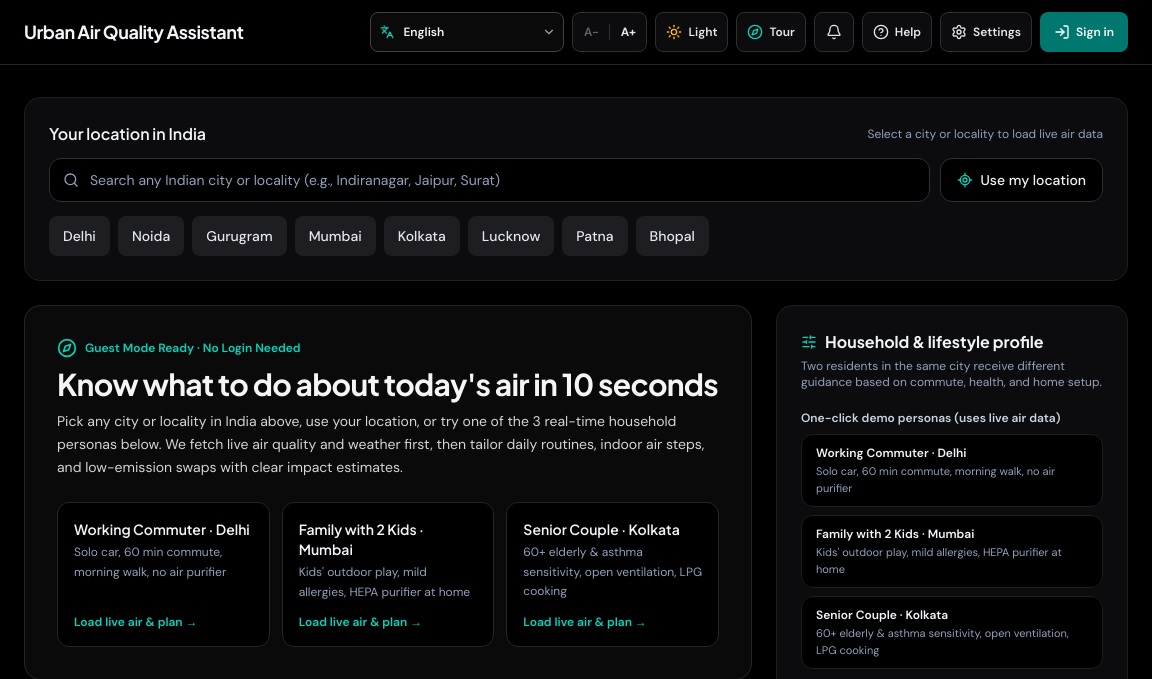
Test: Top toolbar controls (Regional Languages, Black Default Theme, Font Size, Coachmark Tour) & Separate Login Page › switches between English, Hindi, Marathi, and Punjabi directly from the top bar
Expected: the button "Urban Air Quality Assistant" is shown, [24,18,243,46]
// Switch to Marathi
Step 1. Select "मराठी (Marathi)" in the dropdown named "Select language" → (467, 32), box [370,12,564,52]
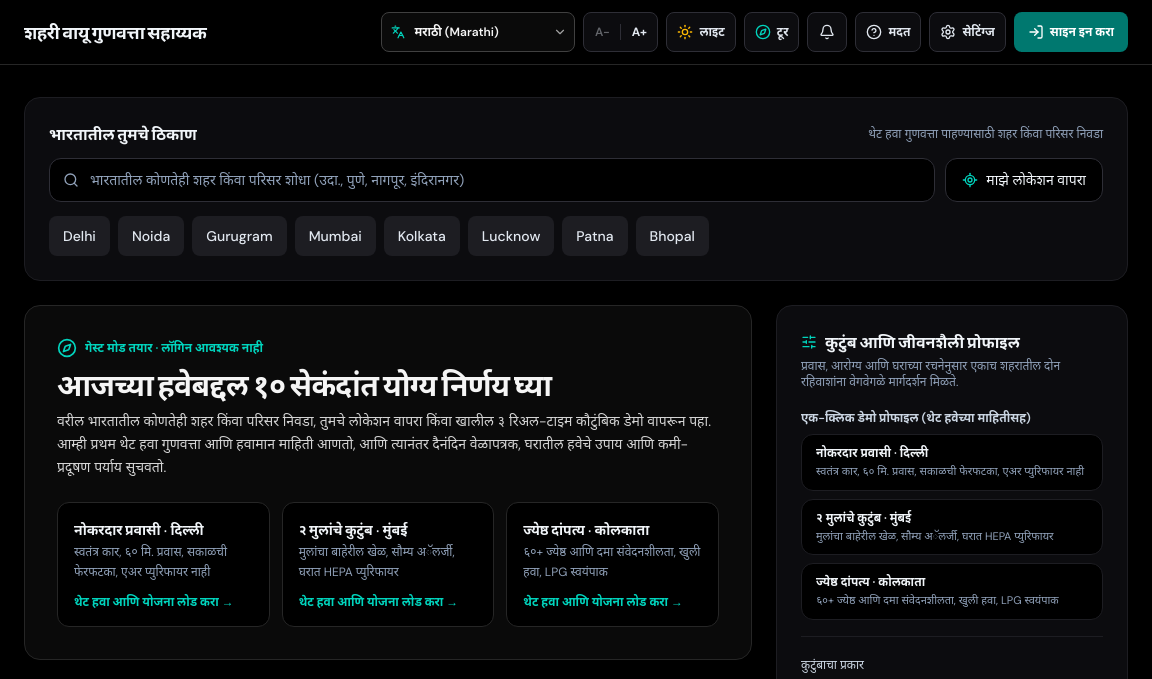
Now the button "शहरी वायू गुणवत्ता सहाय्यक" is shown, box [24,18,206,46]
// Switch to Punjabi
Step 2. Select "ਪੰਜਾਬੀ (Punjabi)" in the dropdown named "Select language" → (478, 32), box [381,12,575,52]
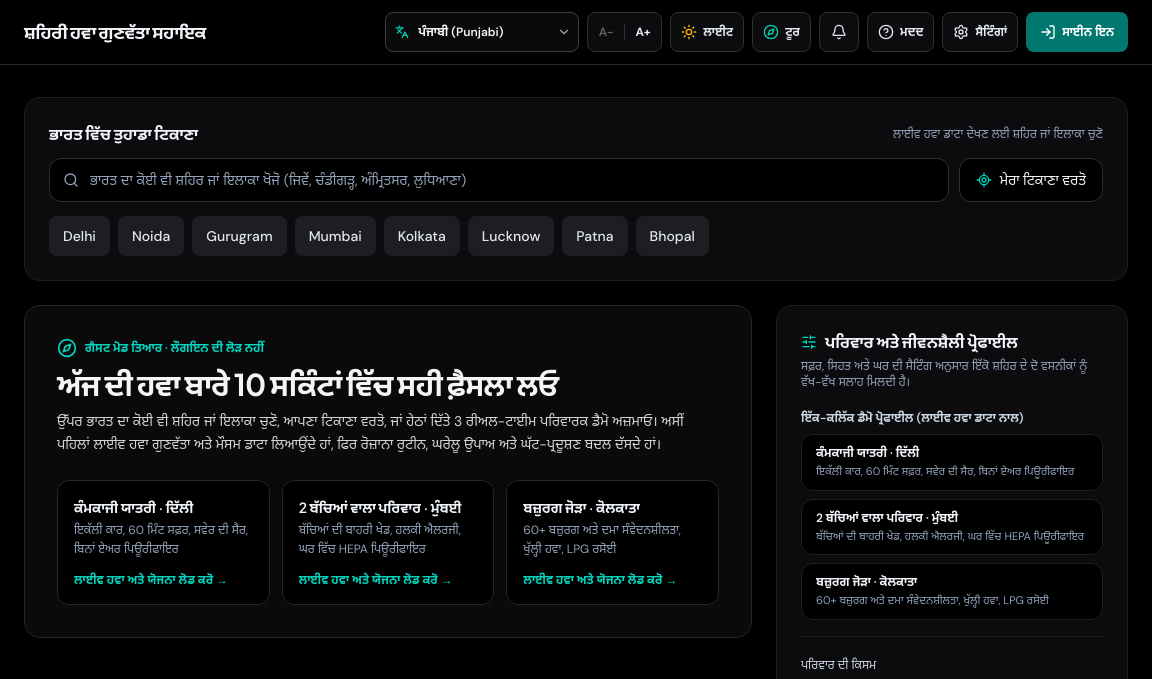
Now the button "ਸ਼ਹਿਰੀ ਹਵਾ ਗੁਣਵੱਤਾ ਸਹਾਇਕ" is shown, box [24,18,206,46]
// Switch to Hindi
Step 3. Select "हिन्दी (Hindi)" in the dropdown named "Select language" → (482, 32), box [385,12,579,52]
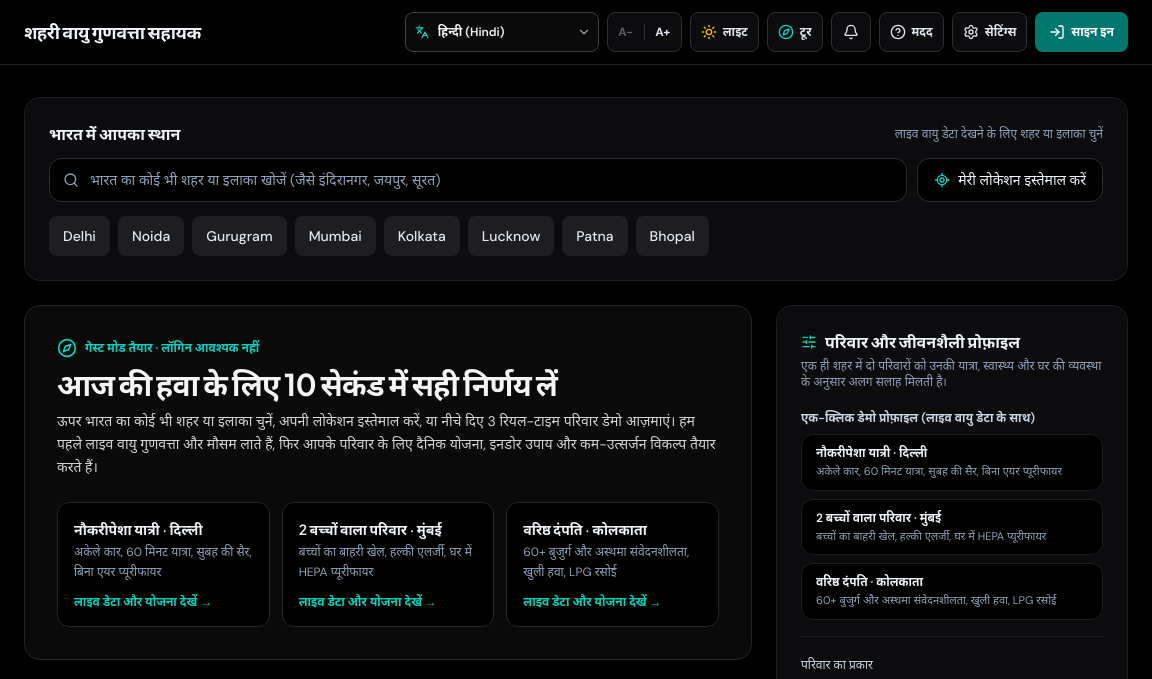
Now the button "शहरी वायु गुणवत्ता सहायक" is shown, box [24,18,201,46]
// Switch back to English
Step 4. Select "English" in the dropdown named "Select language" → (502, 32), box [405,12,599,52]
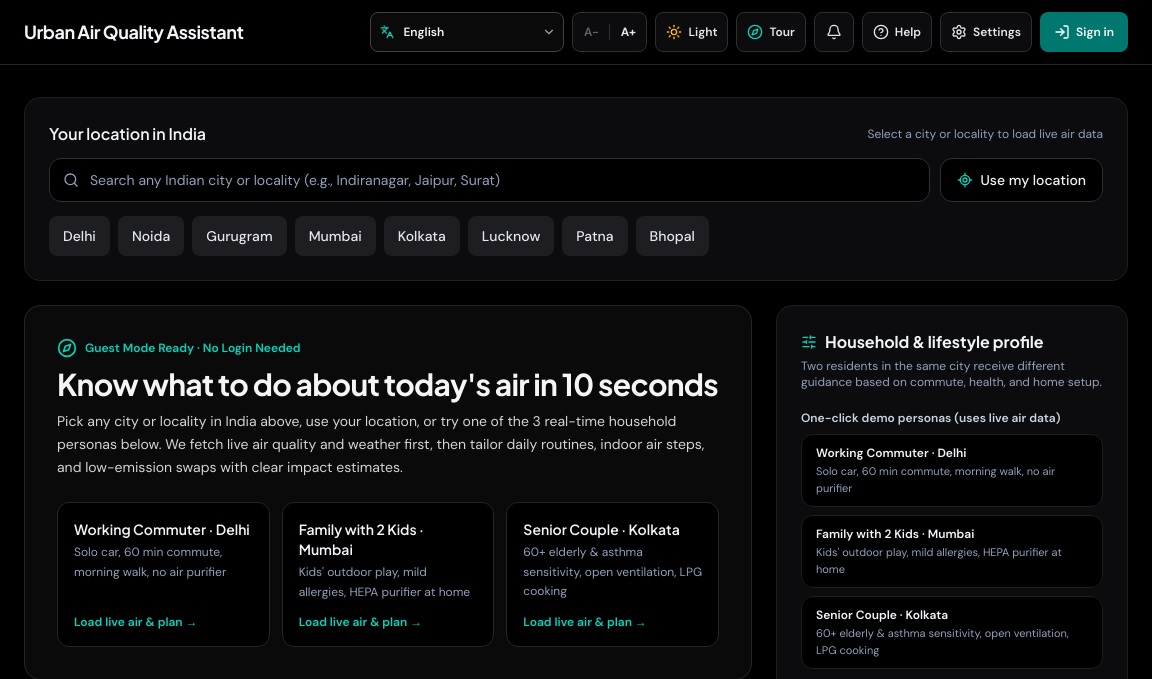
Now the button "Urban Air Quality Assistant" is shown, box [24,18,243,46]
